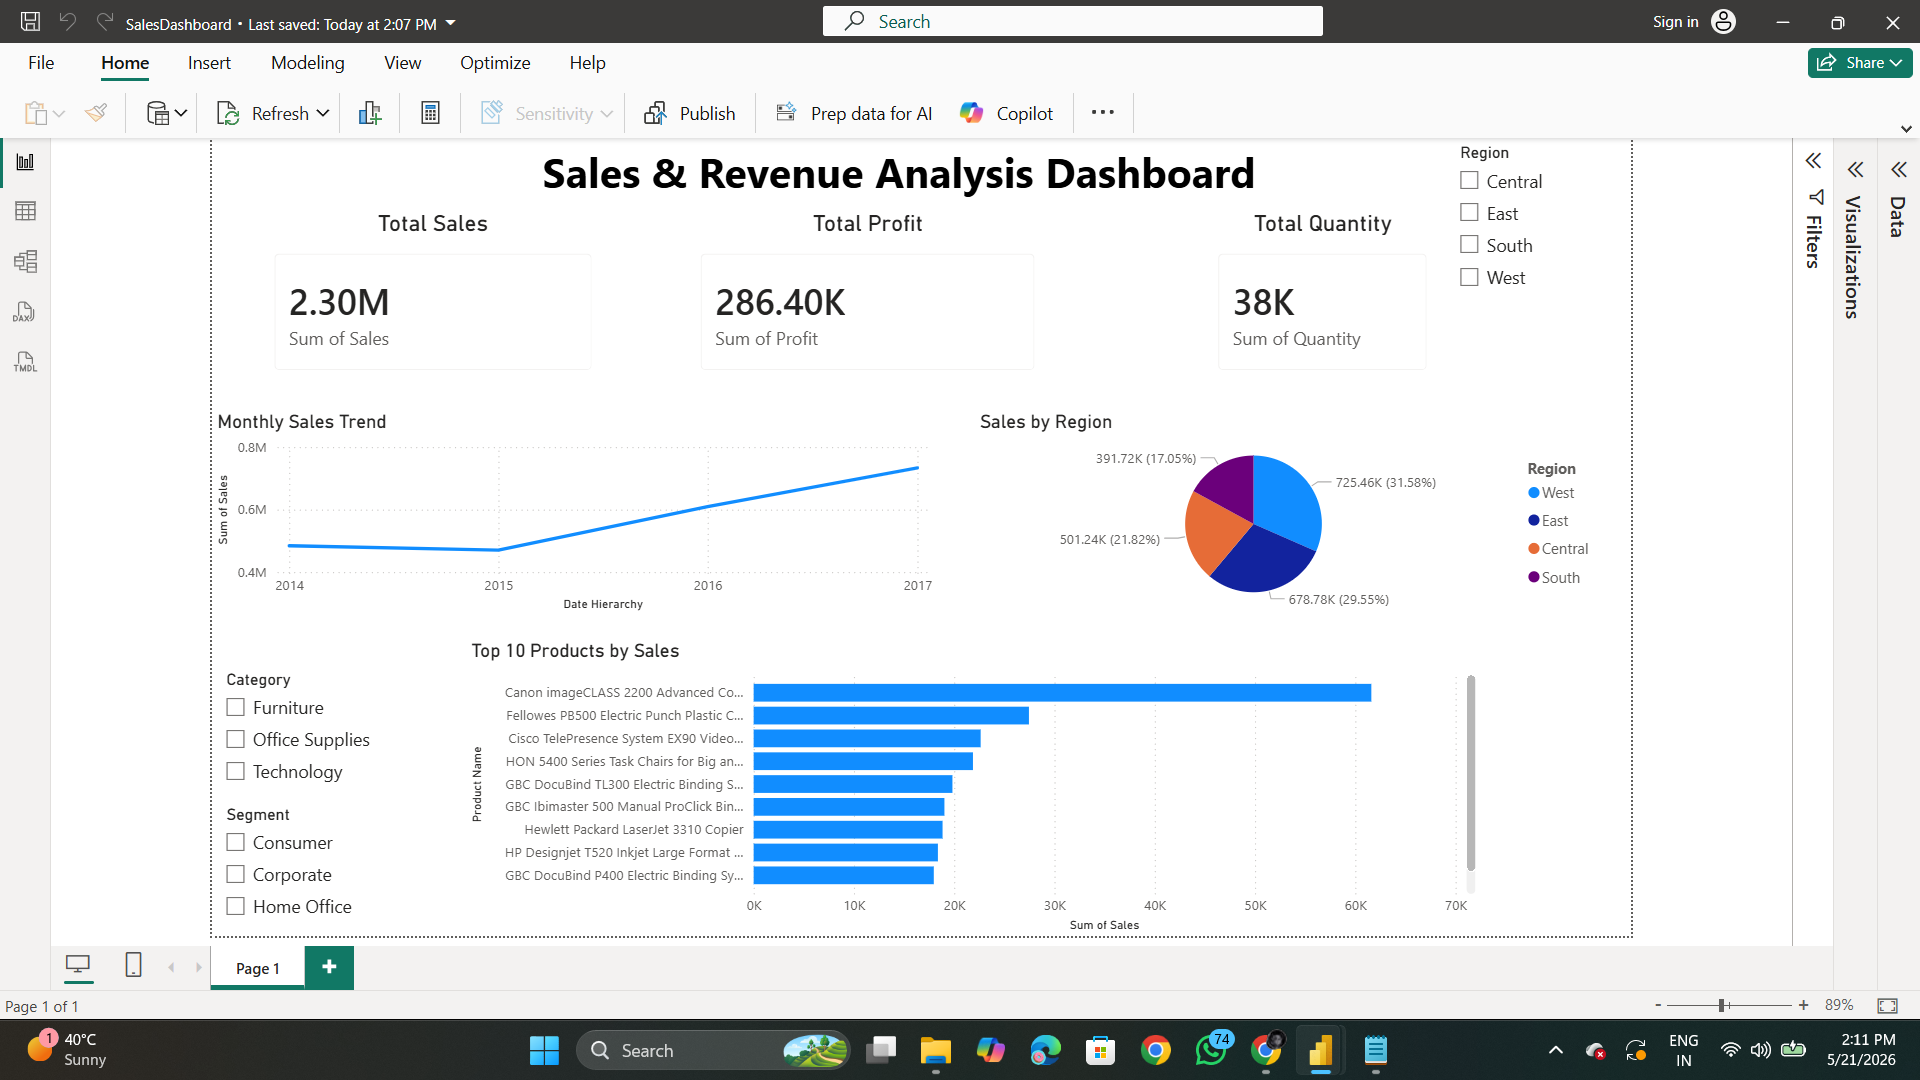

What the dashboard file says about the page in this screenshot:
{"tool":"powerbi","page":{"name":"Page 1","canvas":[1280,720],"ordinal":0},"visuals":[{"type":"cardVisual","title":"Total Sales","fields":{"Data":["Sum(Sample - Superstore.Sales)"]},"box":[40,64.3,320,162.9],"z":0},{"type":"cardVisual","title":"Total Profit","fields":{"Data":["Sum(Sample - Superstore.Profit)"]},"box":[424.3,64.3,335.7,162.9],"z":1000},{"type":"cardVisual","title":"Total Quantity","fields":{"Data":["Sum(Sample - Superstore.Quantity)"]},"box":[890,64.3,222.9,162.9],"z":2000},{"type":"lineChart","title":"Monthly Sales Trend","fields":{"Category":["Sample - Superstore.Order Date.Variation.Date Hierarchy.Year","Sample - Superstore.Order Date.Variation.Date Hierarchy.Quarter","Sample - Superstore.Order Date.Variation.Date Hierarchy.Month","Sample - Superstore.Order Date.Variation.Date Hierarchy.Day"],"Y":["Sum(Sample - Superstore.Sales)"]},"box":[0,245.7,654.3,185.7],"z":3000},{"type":"pieChart","title":"Sales by Region","fields":{"Category":["Sample - Superstore.Region"],"Y":["Sum(Sample - Superstore.Sales)"]},"box":[687.1,245.7,568.6,185.7],"z":4000},{"type":"clusteredBarChart","title":"Top 10 Products by Sales","fields":{"Category":["Sample - Superstore.Product Name"],"Y":["Sum(Sample - Superstore.Sales)"]},"box":[228.6,451.4,915.7,268.6],"z":5000},{"type":"slicer","fields":{"Values":["Sample - Superstore.Region"]},"box":[1112.9,0,167.1,154.3],"z":6000},{"type":"slicer","fields":{"Values":["Sample - Superstore.Category"]},"box":[0,474.3,200,121.4],"z":7000},{"type":"textbox","box":[292.9,0,665.7,64.3],"z":7500},{"type":"slicer","fields":{"Values":["Sample - Superstore.Segment"]},"box":[0,595.7,167.1,118.6],"z":8000}]}

Visuals, with their boxes on the page's 1280x720 design canvas (x1, y1, x2, y2). These are canvas units, not pixel positions in the 1920x1080 screenshot, which may show the page scaled, cropped or inside an application window:
"Total Sales" cardVisual: bbox(40, 64, 360, 227)
"Total Profit" cardVisual: bbox(424, 64, 760, 227)
"Total Quantity" cardVisual: bbox(890, 64, 1113, 227)
"Monthly Sales Trend" lineChart: bbox(0, 246, 654, 431)
"Sales by Region" pieChart: bbox(687, 246, 1256, 431)
"Top 10 Products by Sales" clusteredBarChart: bbox(229, 451, 1144, 720)
slicer - Sample - Superstore.Region: bbox(1113, 0, 1280, 154)
slicer - Sample - Superstore.Category: bbox(0, 474, 200, 596)
textbox: bbox(293, 0, 959, 64)
slicer - Sample - Superstore.Segment: bbox(0, 596, 167, 714)
